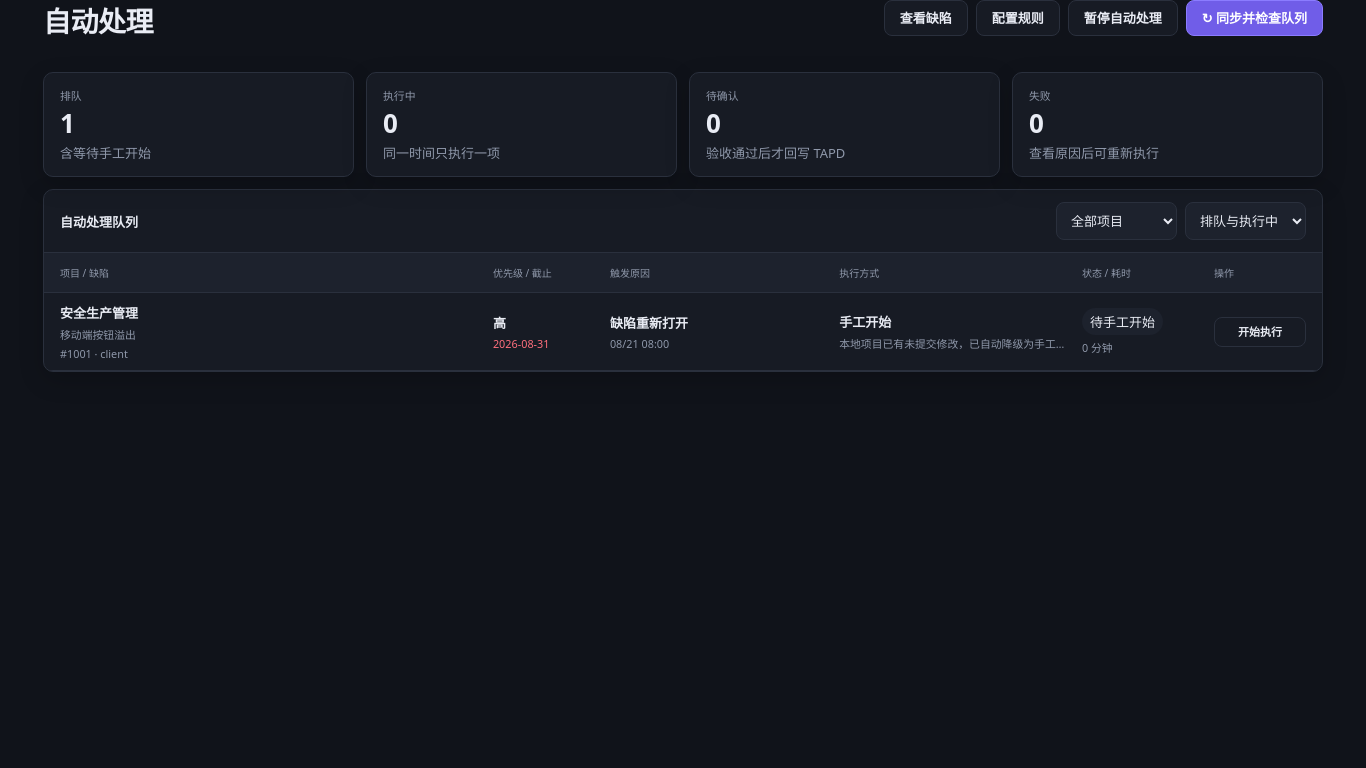
Scenario: TapdAutomationView › 主界面只显示队列决策信息，规则配置默认收进侧边抽屉
Expected: the element that starts with "安全生产管理" shows "高", x1=493 y1=314 x2=506 y2=332
Expected: the element that starts with "安全生产管理" shows "缺陷重新打开", x1=610 y1=314 x2=688 y2=332
Click the button "配置规则": (1018, 18) x1=976 y1=0 x2=1060 y2=36
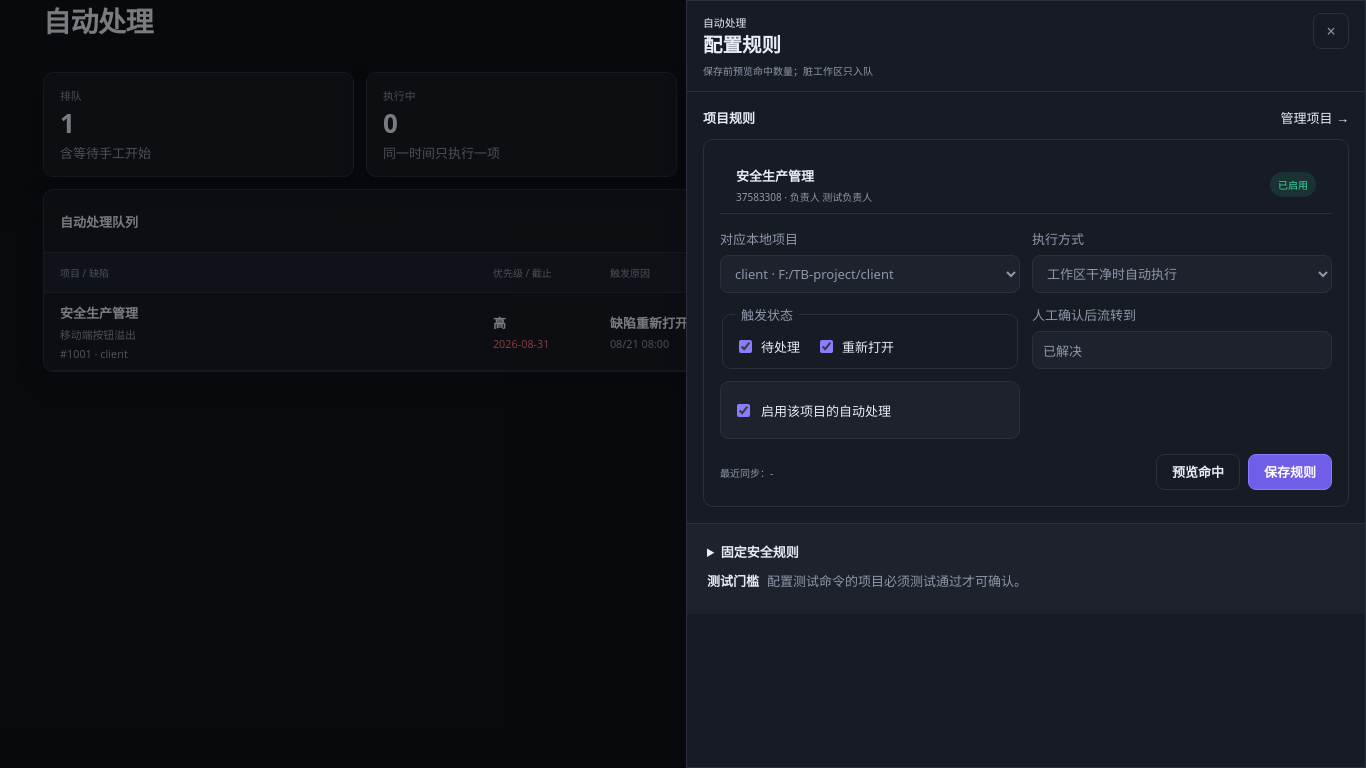
Now the element with class "automation-rule-drawer" is shown, box x1=686 y1=0 x2=1365 y2=767
Now the element with class "automation-rule-drawer" shows "人工确认后流转到", box x1=1032 y1=306 x2=1136 y2=324
Click the button "预览命中": (1198, 472) x1=1156 y1=454 x2=1240 y2=490
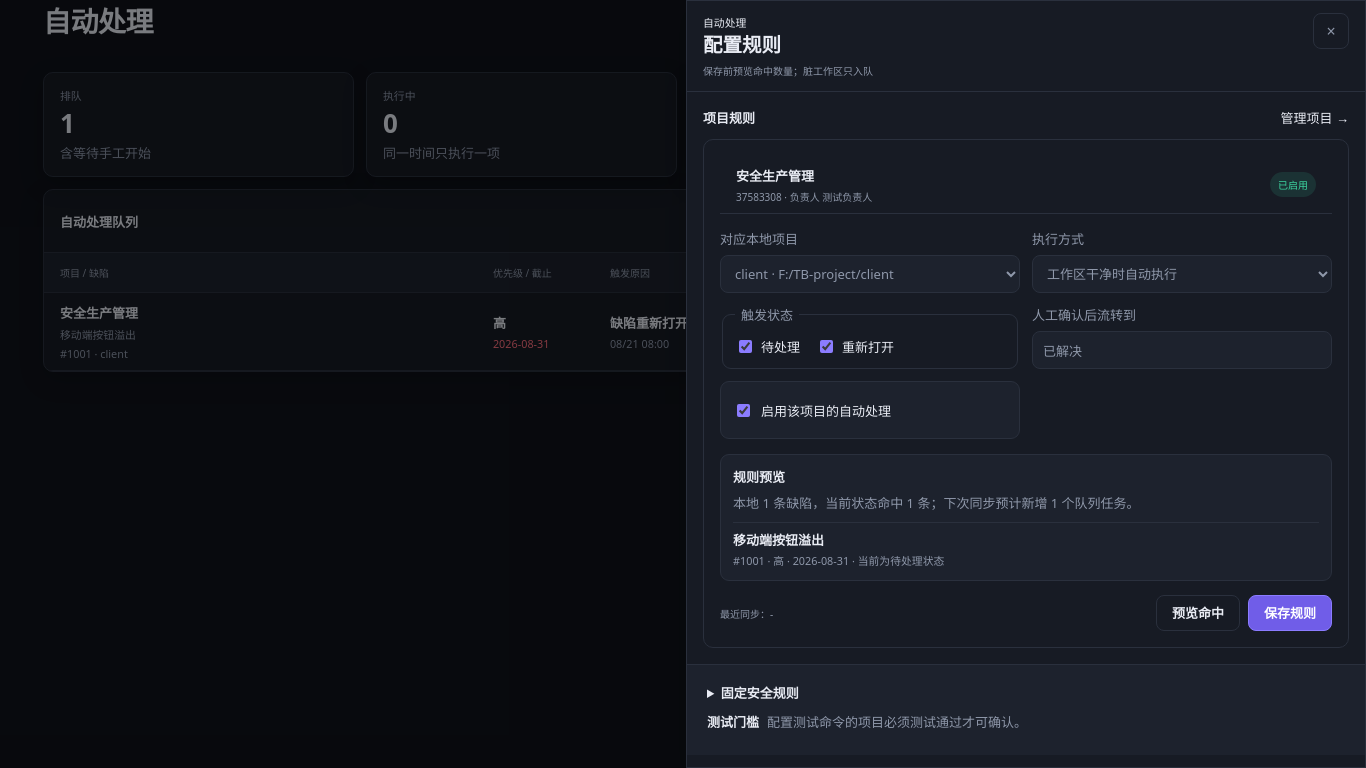
Now the element with class "rule-preview" shows "下次同步预计新增 1 个队列任务", box x1=733 y1=494 x2=1140 y2=512
